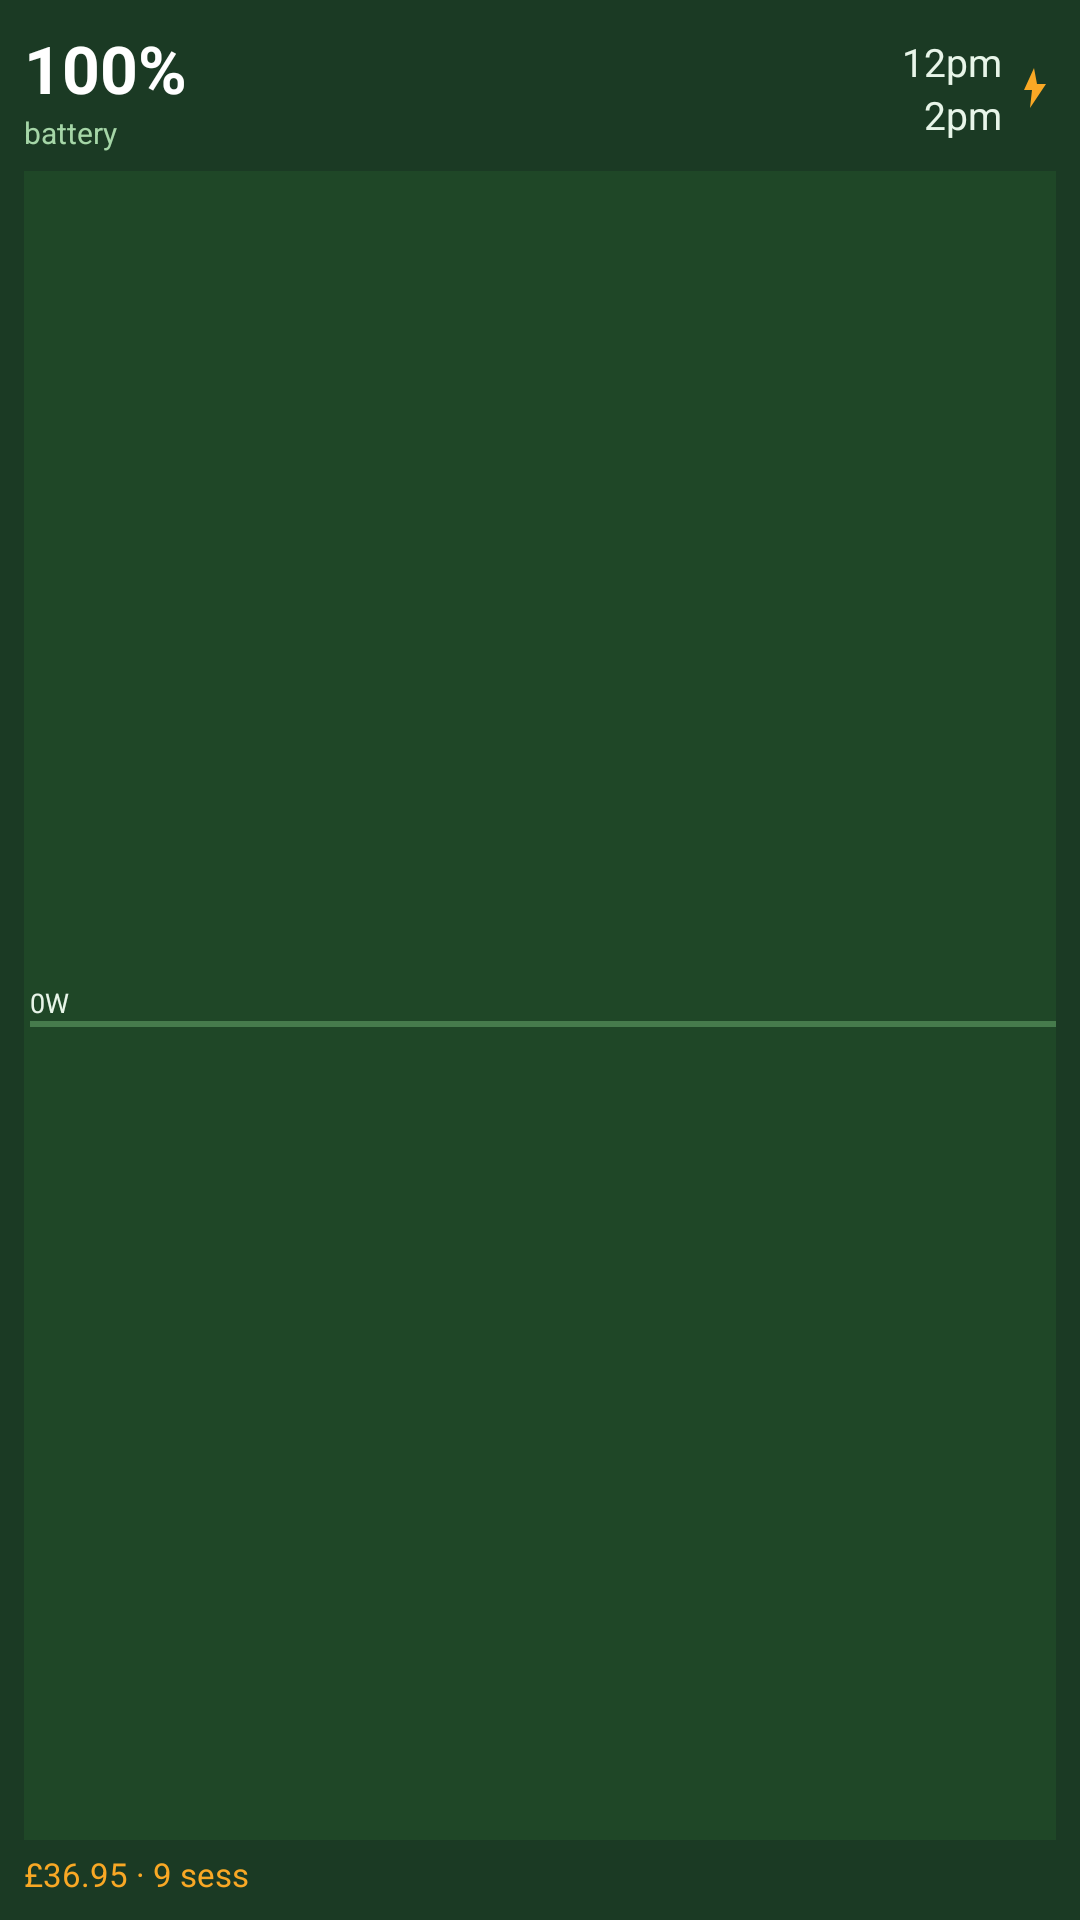

Point at icon controls on the screen. Image size 1080 × 1920, points as (x,y).
power up badge: (1035,88)
